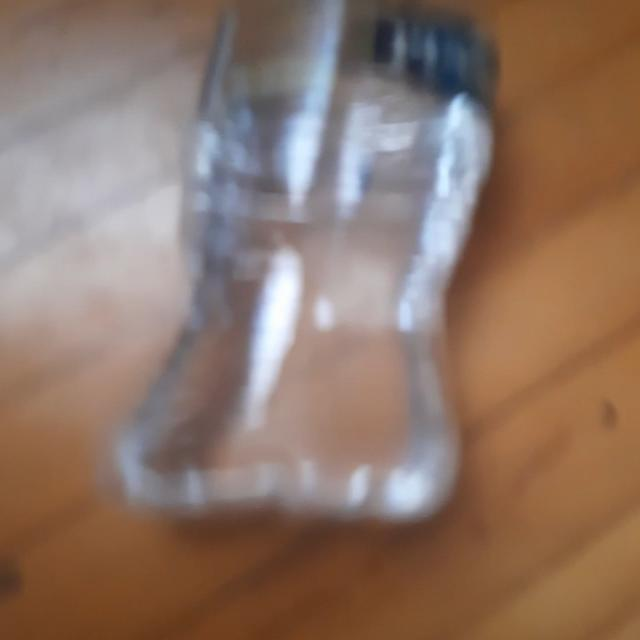Plastic: (100, 0, 496, 550), (228, 7, 499, 104)
